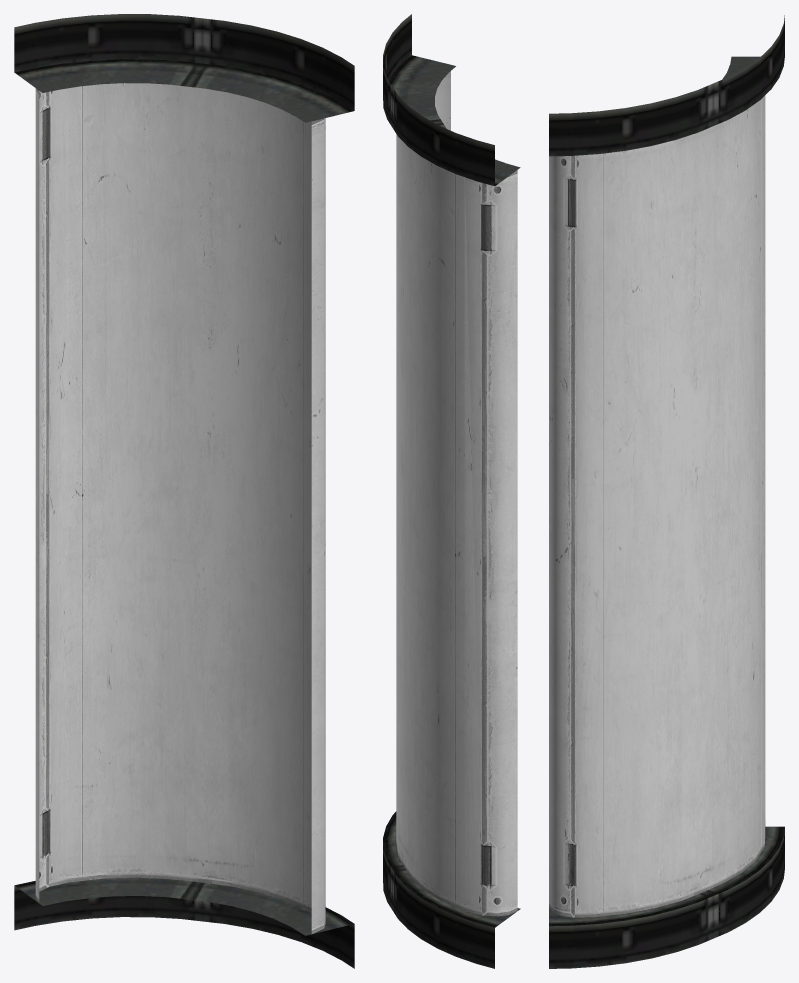
The model's file is Neon_Wall_Cornerb.FBX.
3 renders of one model, left to right at view 1: azimuth 30°, elevation 25°; view 2: azimuth 150°, elevation 25°; view 3: azimuth 270°, elevation 25°, orthographic. The views are drawn at different scales.
Visible parts, largest first — view 1: Neon_Wall_Cornerb; view 2: Neon_Wall_Cornerb; view 3: Neon_Wall_Cornerb.
Part boxes in pixels (box(x1,y1,x2,y2)): Neon_Wall_Cornerb: box(14, 14, 354, 968); Neon_Wall_Cornerb: box(383, 14, 520, 968); Neon_Wall_Cornerb: box(549, 15, 784, 968).
Size of the model in its own units: 1 by 4 by 1.
